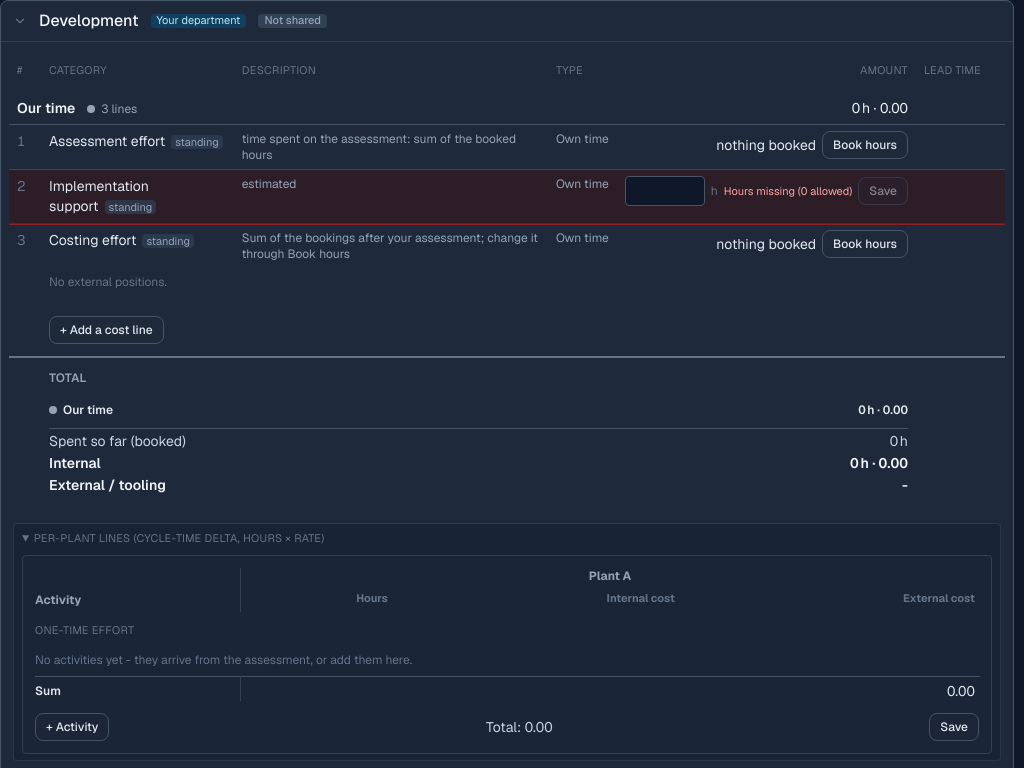
it: CostingBuckets › per-department pipeline › the department finalizes its own costing from its bucket
This screenshot has width=1024, height=768.
Later steps or results of the test are not shown.
Step 1. Click the button with test id "costing-toggle-2" → (89, 20), box [1, 1, 1013, 41]
(page scrolled)
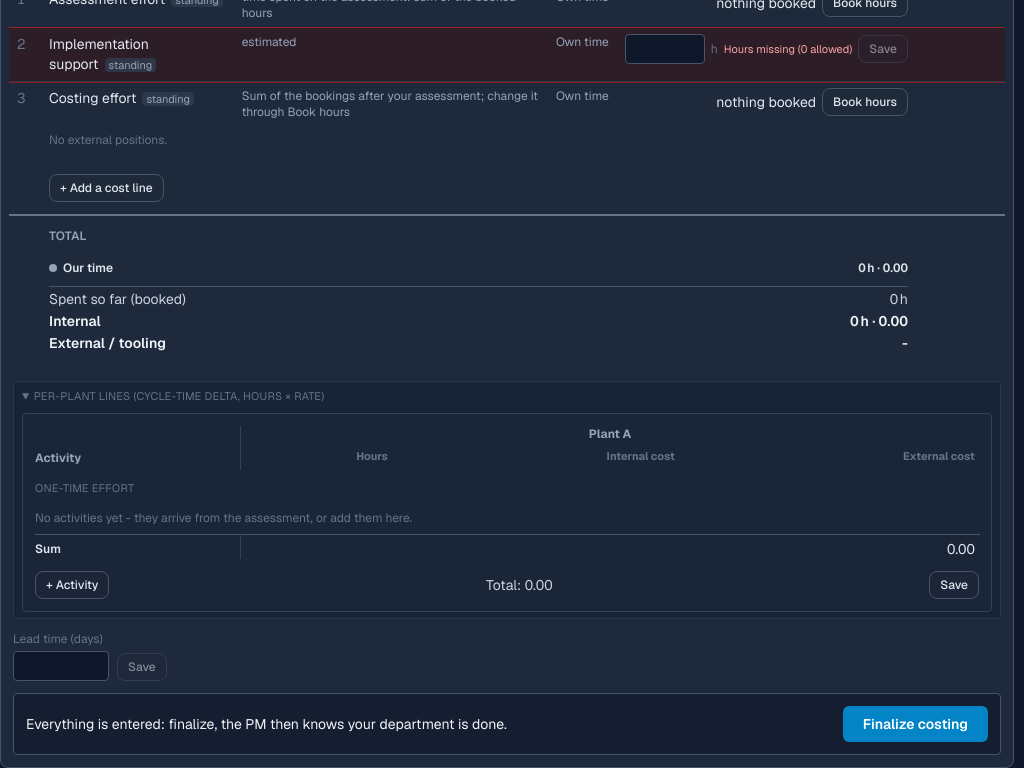
Check: the button with test id "costing-finalize-2" is enabled, box [843, 706, 988, 742]
